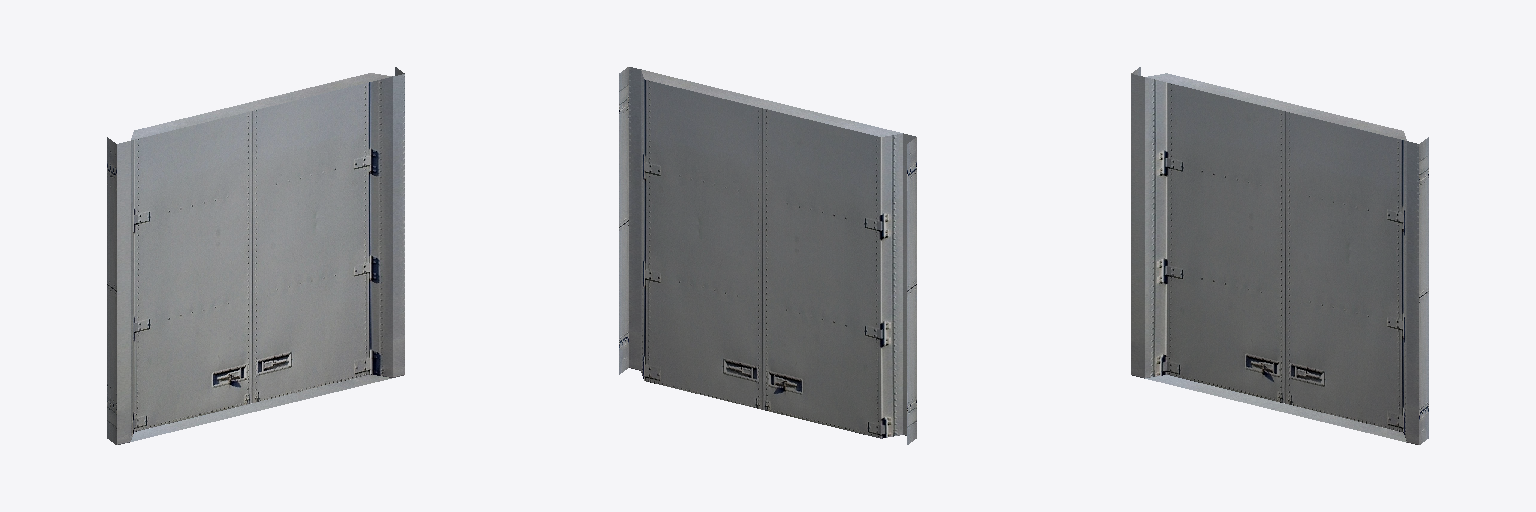
3 views of the same model, side by side, from view 1: azimuth 30°, elevation 25°; view 2: azimuth 150°, elevation 25°; view 3: azimuth 330°, elevation 25° (orthographic).
Visible parts, largest first — view 1: wall1; view 2: wall1; view 3: wall1.
Part boxes in pixels (x1,y1,x2,y2): wall1: (107, 67, 404, 444); wall1: (619, 67, 916, 444); wall1: (1131, 67, 1428, 444).
Size of the model in its own units: 0.9986 by 0.9986 by 0.0595.
1 materials, 1 textured.